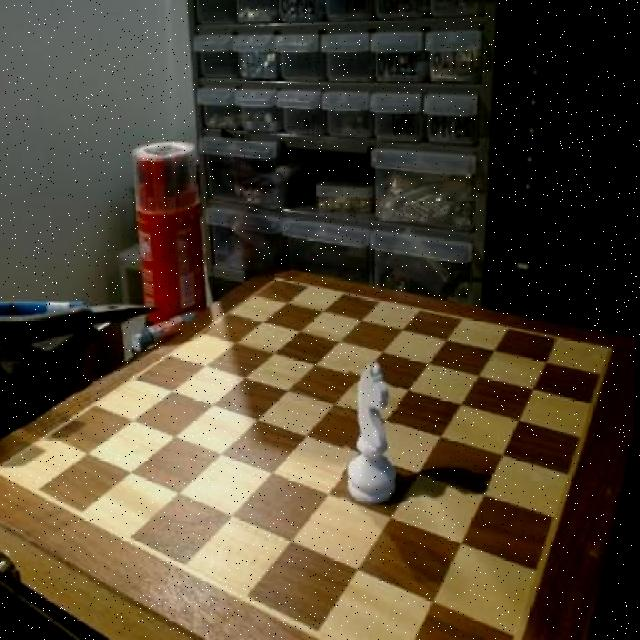white-king: (343, 360, 399, 510)
